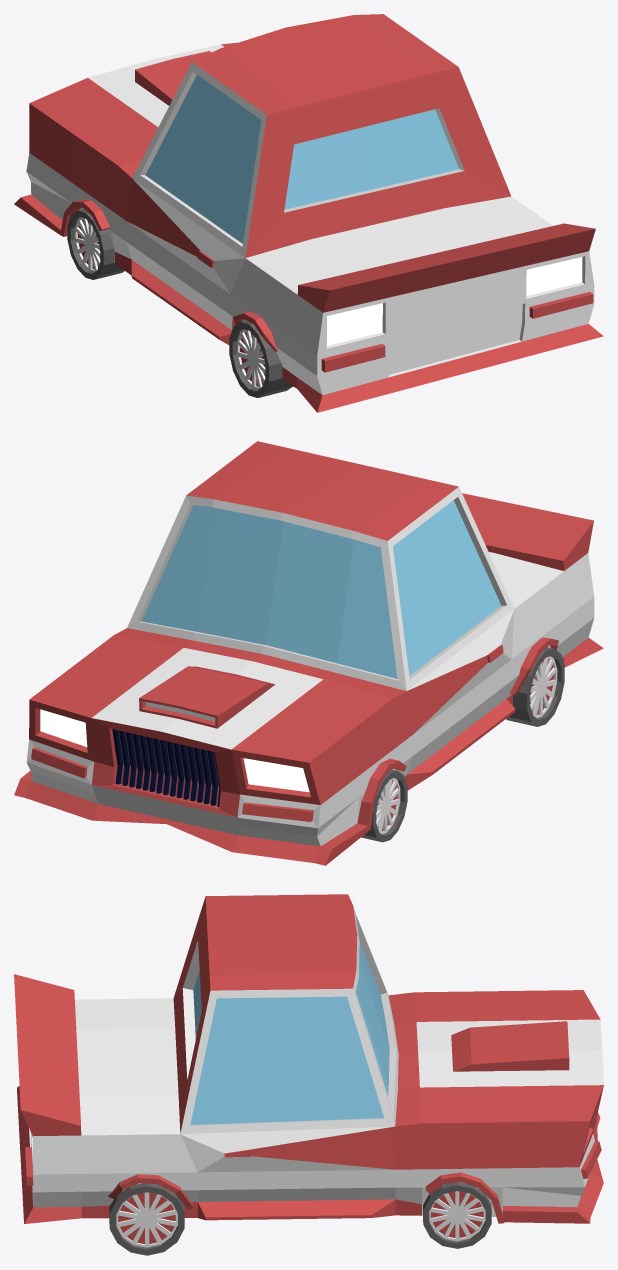
The model's file is cute_car.glb.
3 renders of one model, top to bottom at view 1: azimuth 30°, elevation 25°; view 2: azimuth 150°, elevation 25°; view 3: azimuth 270°, elevation 25°, orthographic. The views are drawn at different scales.
Visible parts, largest first — view 1: body, backlight, wheel_1, wheel1_1, front_fender, rear_fender; view 2: body, lattice_1, wheel_1, headlight, wheel1_1, front_fender, rear_fender; view 3: body, wheel_1, wheel1_1, front_fender, rear_fender.
Part boxes in pixels (x1,y1,x2,y2): body: (14, 14, 603, 412); backlight: (326, 257, 582, 345); wheel_1: (229, 320, 292, 397); wheel1_1: (67, 209, 124, 279); front_fender: (61, 199, 110, 236); rear_fender: (232, 311, 278, 351); body: (14, 441, 603, 865); lattice_1: (112, 729, 220, 806); wheel_1: (506, 647, 564, 726); headlight: (40, 709, 309, 792); wheel1_1: (361, 769, 407, 842); front_fender: (357, 758, 406, 830); rear_fender: (509, 637, 558, 694); body: (14, 894, 603, 1223); wheel_1: (109, 1183, 184, 1255); wheel1_1: (423, 1182, 491, 1248); front_fender: (425, 1172, 504, 1223); rear_fender: (108, 1174, 193, 1209).
Size of the model in its own units: 1.41 by 1.11 by 2.38.
